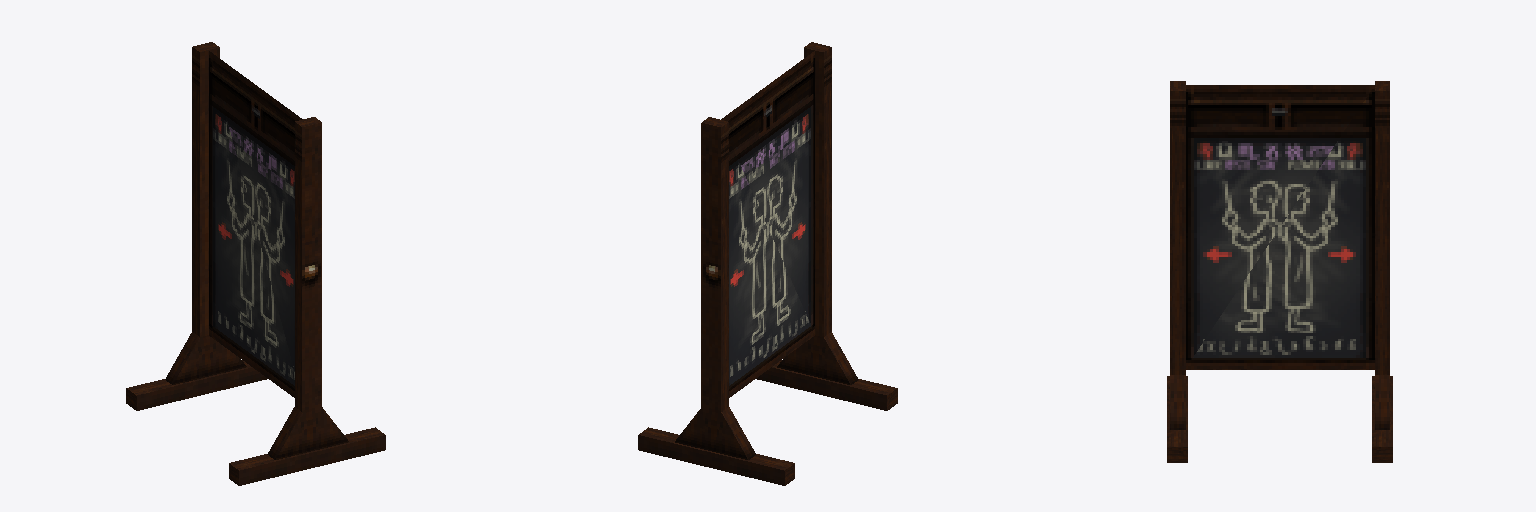
3 views of the same model, side by side, from view 1: azimuth 30°, elevation 25°; view 2: azimuth 150°, elevation 25°; view 3: azimuth 270°, elevation 25° (orthographic).
Size of the model in its own units: 53.84 by 120 by 71.68.
1 materials, 1 textured.